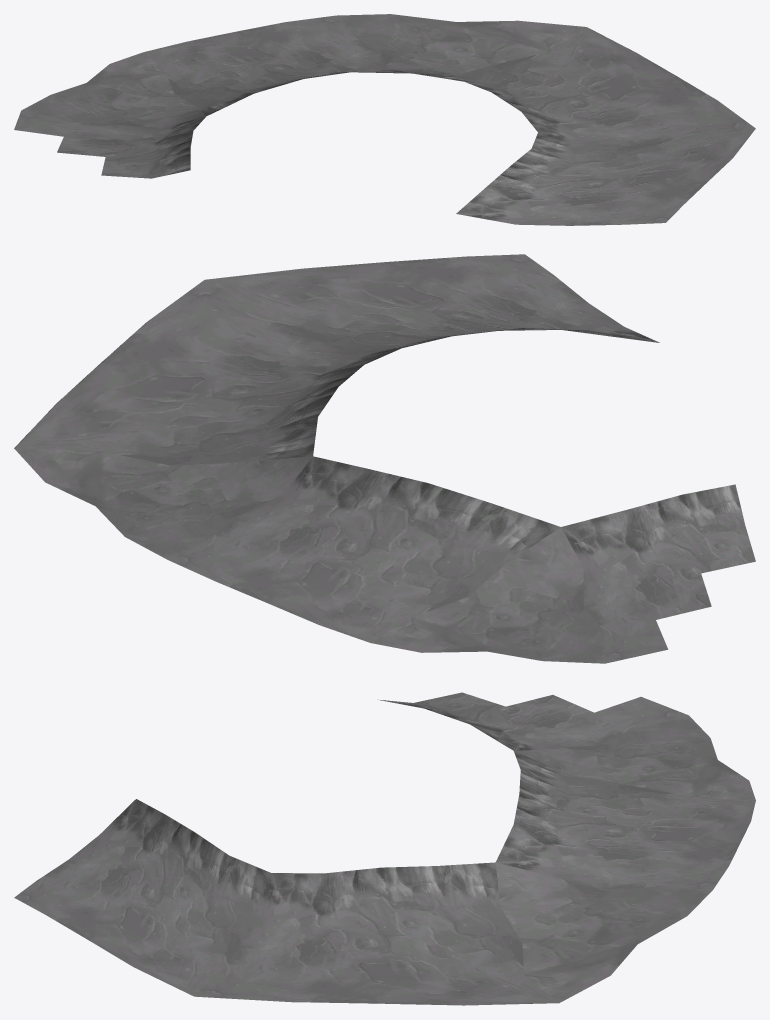
Rendered from SWORDLIGHT20_PS-AREA04_30.fbx.
3 renders of one model, top to bottom at view 1: azimuth 30°, elevation 25°; view 2: azimuth 150°, elevation 25°; view 3: azimuth 270°, elevation 25°, orthographic. The views are drawn at different scales.
Visible parts, largest first — view 1: SWORDLIGHT20_PS-AREA04_30; view 2: SWORDLIGHT20_PS-AREA04_30; view 3: SWORDLIGHT20_PS-AREA04_30.
Part boxes in pixels (box(x1,y1,x2,y2)): SWORDLIGHT20_PS-AREA04_30: box(14, 14, 755, 225); SWORDLIGHT20_PS-AREA04_30: box(14, 254, 755, 663); SWORDLIGHT20_PS-AREA04_30: box(14, 692, 755, 1005).
Bounding box in the file's own units: 114590 × 6896 × 115189.
2 materials, 2 textured.
